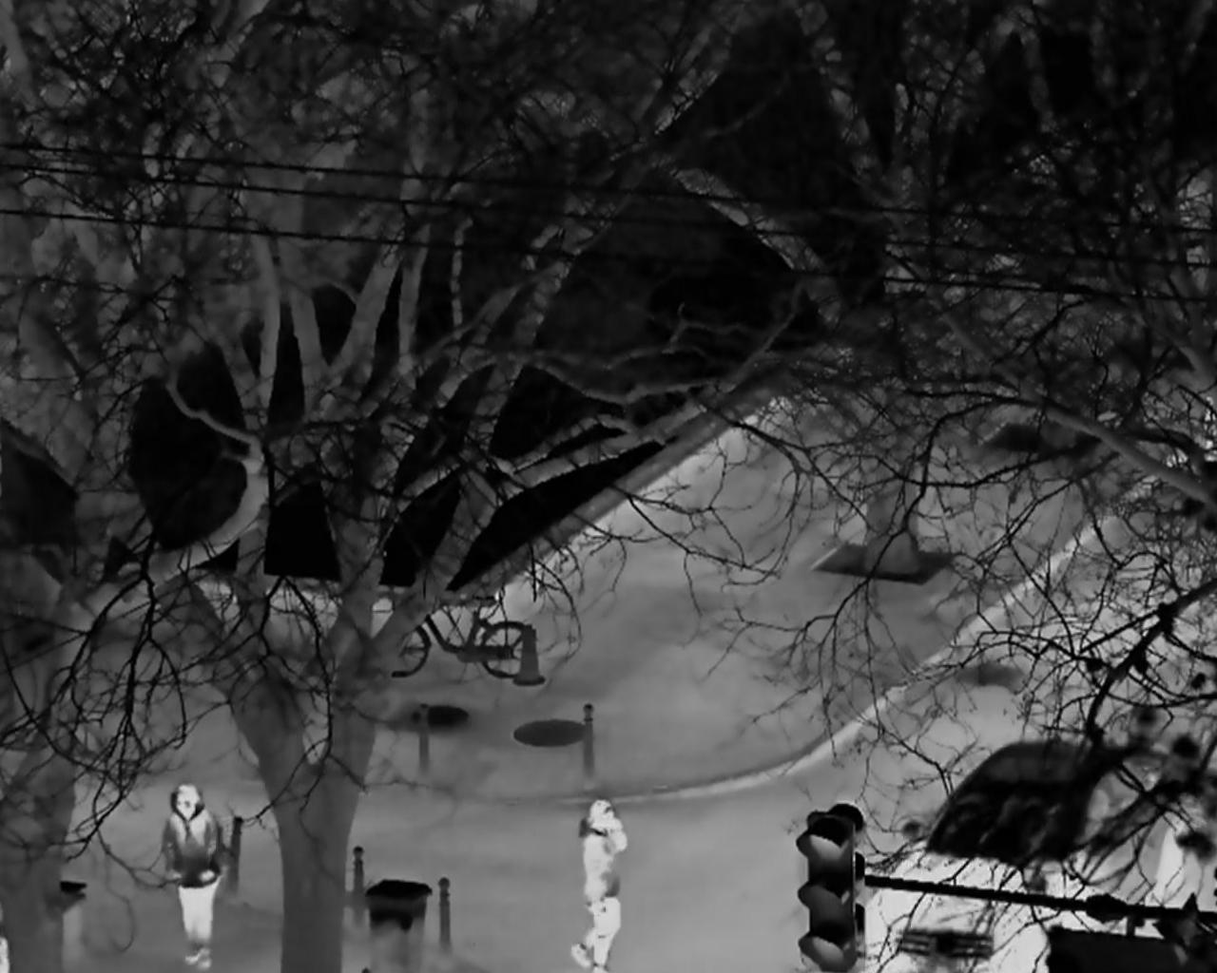person: (160, 782, 227, 973), (568, 795, 628, 973)
